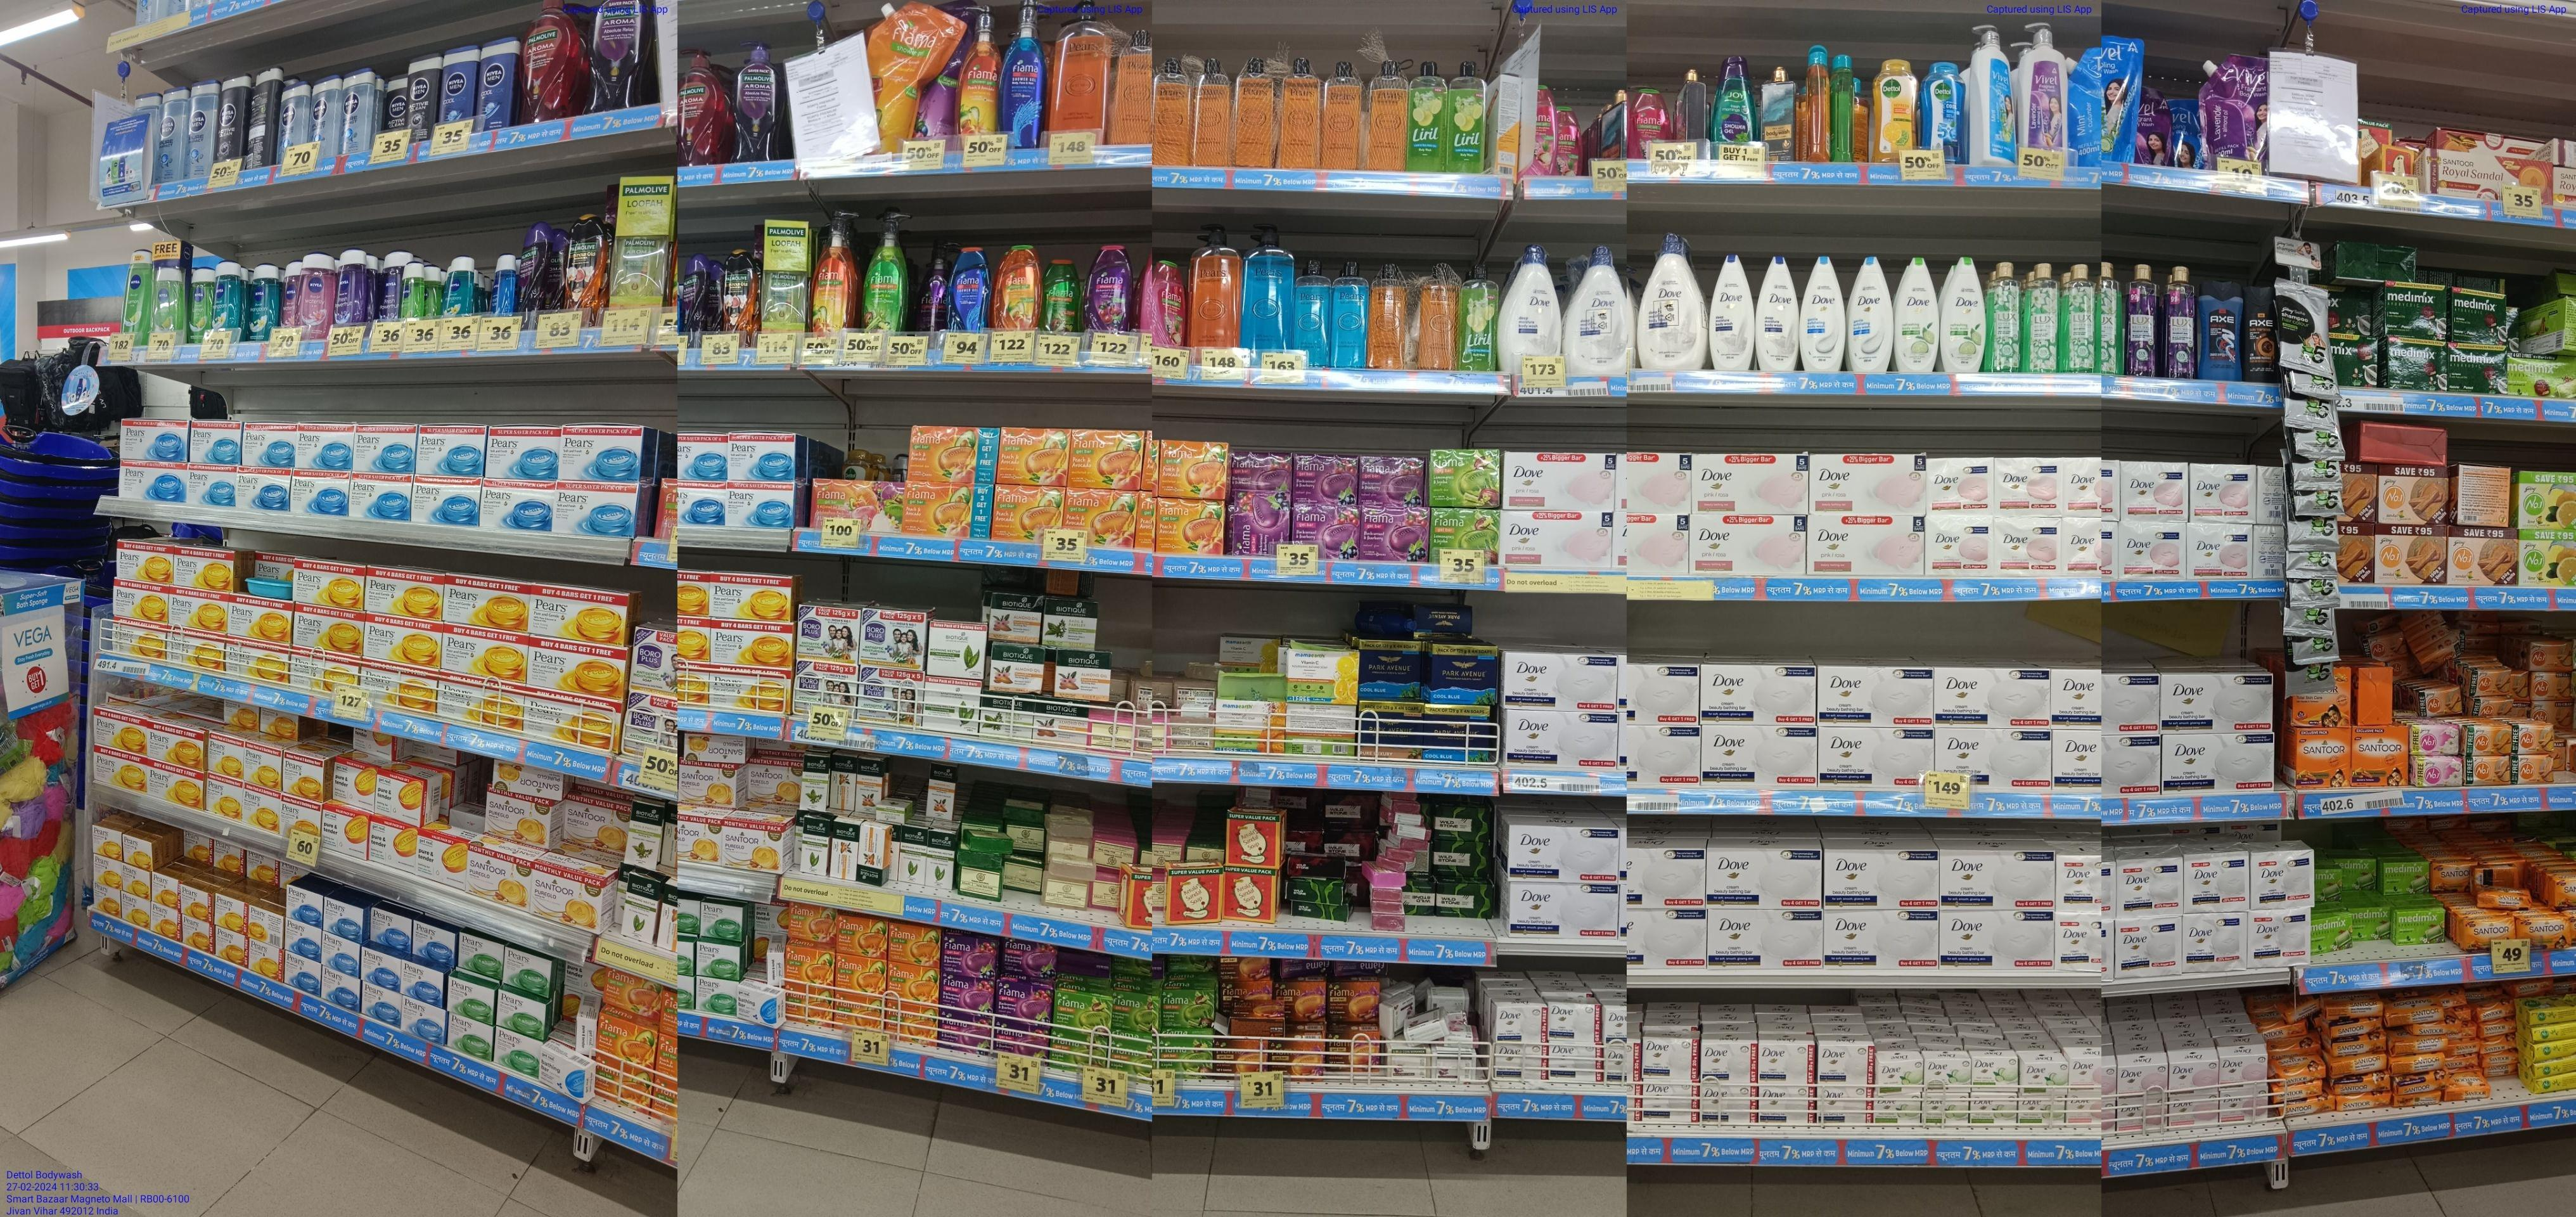Dettol_Bodywash_Cool: (1924, 61, 1970, 166)
Dettol_Bodywash_Refresh: (1873, 56, 1919, 168)
Dove_Deep_Moisture_Body_Wash_250ML: (1710, 255, 1755, 371), (1756, 255, 1799, 374)
Dove_Gentle_Exfoliating_Body_Wash_250ML: (1847, 253, 1893, 374), (1802, 253, 1845, 373)
Dove_Refreshing_Body_Wash_250ML: (1893, 256, 1939, 374), (1942, 256, 1985, 376)
Fiama_Shower_Gel_Lemongrass_and_Jojoba_250ML: (1042, 256, 1081, 333)
Fiama_Shower_Gel_Patchouli_and_Macadamia_250ML: (1155, 258, 1184, 350)
Fiama_Shower_Gel_Peach_and_Avocado_250ML: (994, 243, 1040, 335)
Joy_Shower_Gel_Mint_and_Eucalyptus_250ML: (1715, 53, 1758, 146)
Liril_Lime_and_Tea_Tree_Oil_Body_Wash_250ML: (1457, 263, 1497, 374), (1408, 61, 1447, 172), (1449, 59, 1487, 174)
Lux_Black_Orchid_Scent_and_Juniper_Oil_Body_Wash_245ML: (2162, 266, 2200, 379), (2127, 261, 2159, 378)
Lux_Body_Wash_Skin_Detox_Freesia_Scent_and_Alove_Vera_245ML: (1991, 258, 2024, 371), (2062, 261, 2095, 373), (2027, 261, 2060, 373), (2101, 256, 2124, 374)
Nivea_Shower_Gel_Frangipani_and_Oil_250ML: (250, 261, 278, 342), (212, 261, 240, 333), (442, 253, 470, 314)
Nivea_Shower_Gel_Fresh_Powerfruit_250ML: (335, 248, 365, 325), (378, 250, 399, 319)
Nivea_Shower_Gel_Lemon_and_Oil_250ML: (122, 250, 151, 345), (189, 266, 212, 345), (401, 261, 424, 317)
Nivea_Shower_Gel_Waterlily_and_Oil_250ML: (296, 251, 333, 337)
Palmolive_Aroma_Relax_250ML: (516, 222, 545, 330), (678, 251, 708, 337)
Palmolive_Luminous_Oils_With_White_Orchid_Shower_Gel_250ML: (563, 214, 603, 327), (724, 248, 756, 347)
Pears_Pure_Glycerin_and_Mint_Extracts_Body_Wash_250ML: (1331, 259, 1368, 368), (1296, 258, 1329, 370)
